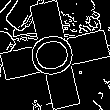O_E: (25, 28, 85, 82)
